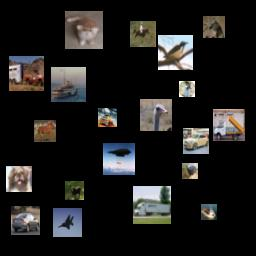airplane: (103, 143, 135, 175), (53, 208, 82, 237)
automobile: (11, 206, 40, 235), (183, 128, 209, 154)
bird: (158, 35, 193, 70), (140, 99, 172, 131), (179, 81, 195, 97), (182, 163, 198, 179)
cat: (65, 11, 103, 49), (203, 16, 225, 38)
deer: (65, 181, 84, 200)
dog: (6, 166, 32, 192)
ship: (51, 67, 86, 102), (201, 204, 217, 220)
truck: (133, 186, 171, 224), (9, 56, 44, 91), (213, 109, 245, 141), (98, 108, 117, 127)
